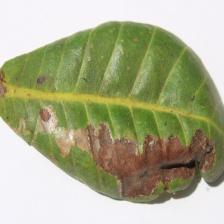leaf miner: (0, 20, 224, 202)
